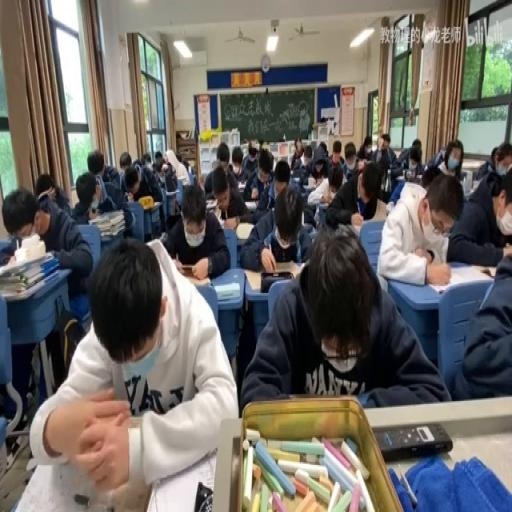calculator: (147, 448, 218, 509), (426, 262, 493, 293), (213, 282, 241, 300), (352, 219, 372, 236), (98, 222, 124, 235), (236, 222, 254, 240), (316, 202, 329, 226), (138, 199, 161, 212), (470, 179, 483, 195), (204, 196, 218, 209), (88, 209, 102, 222), (176, 174, 189, 186), (243, 199, 256, 209), (290, 174, 302, 184), (166, 186, 178, 194), (395, 172, 405, 181), (157, 174, 164, 184), (238, 181, 246, 189)
paper: (33, 235, 237, 496), (244, 224, 446, 410), (2, 181, 92, 304), (446, 160, 512, 268), (162, 181, 229, 280), (240, 180, 314, 268), (324, 158, 387, 230), (74, 168, 131, 240), (122, 161, 164, 230), (205, 141, 240, 196), (422, 138, 460, 188), (394, 138, 424, 192), (370, 131, 396, 169), (151, 150, 176, 188), (304, 151, 330, 185), (342, 138, 360, 181), (240, 142, 258, 181), (34, 173, 56, 202), (272, 158, 290, 193), (355, 135, 374, 165), (0, 237, 18, 267), (86, 150, 104, 176), (290, 135, 304, 168), (294, 179, 314, 198), (258, 150, 272, 176), (487, 144, 500, 168), (118, 151, 132, 172), (124, 174, 138, 194), (174, 152, 184, 171), (141, 151, 152, 168), (331, 141, 341, 159), (318, 141, 328, 158), (302, 145, 312, 161), (411, 138, 421, 151), (232, 158, 242, 171), (260, 141, 270, 151)
person: (373, 420, 453, 458), (260, 270, 294, 293), (480, 267, 493, 276)
